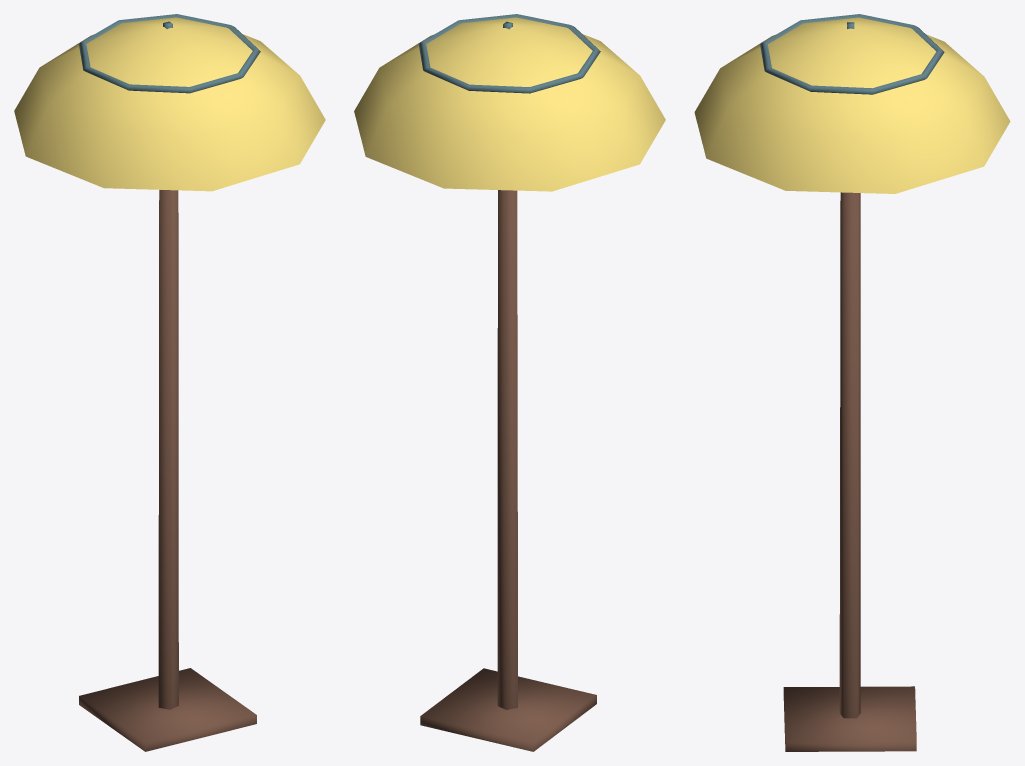
Rendered from Lamp4.fbx.
The picture shows the model from 3 angles, left to right: view 1: azimuth 30°, elevation 25°; view 2: azimuth 150°, elevation 25°; view 3: azimuth 270°, elevation 25°; orthographic projection.
Parts seen in each view (by area): view 1: Lamp4; view 2: Lamp4; view 3: Lamp4.
Part boxes in pixels (x1,y1,x2,y2): Lamp4: (14, 14, 325, 751); Lamp4: (354, 14, 665, 751); Lamp4: (694, 14, 1010, 751).
Bounding box in the file's own units: 25.74 × 63.16 × 25.83.
